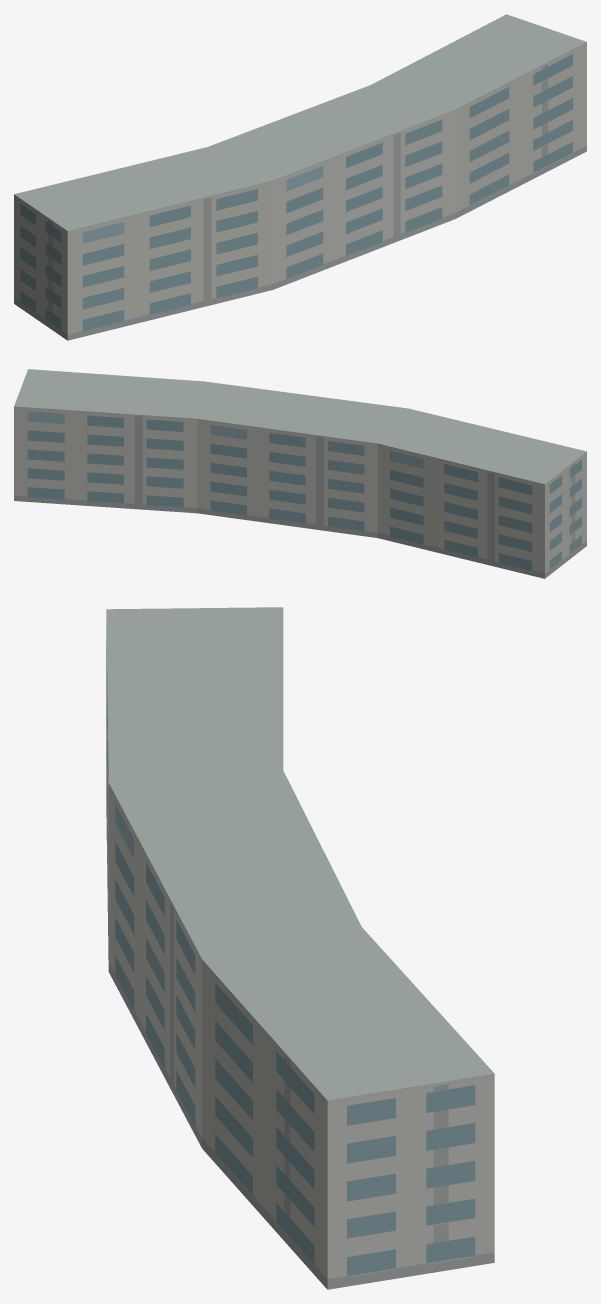
The model's file is residential-437b5100-3cab-466f-bdcb-83ec091d054c.glb.
The picture shows the model from 3 angles, top to bottom: view 1: azimuth 30°, elevation 25°; view 2: azimuth 150°, elevation 25°; view 3: azimuth 270°, elevation 25°; orthographic projection. The views are drawn at different scales.
Parts seen in each view (by area): view 1: residential-437b5100-3cab-466f-bdcb-83ec091d054c.tmp; view 2: residential-437b5100-3cab-466f-bdcb-83ec091d054c.tmp; view 3: residential-437b5100-3cab-466f-bdcb-83ec091d054c.tmp.
Part boxes in pixels (x1,y1,x2,y2): residential-437b5100-3cab-466f-bdcb-83ec091d054c.tmp: [14, 14, 586, 340]; residential-437b5100-3cab-466f-bdcb-83ec091d054c.tmp: [14, 369, 586, 578]; residential-437b5100-3cab-466f-bdcb-83ec091d054c.tmp: [106, 607, 494, 1289].
Size of the model in its own units: 85.32 by 15.25 by 28.39.
